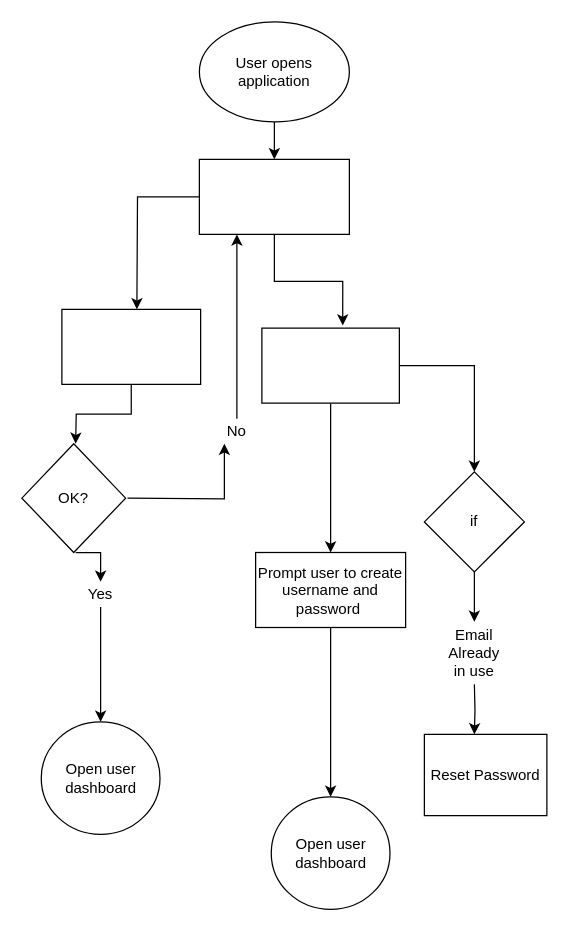
The diagram is 569 pixels wide and 931 high, and some of its shapes have lost their labels. The centre of each missing label's shape, as x and y in pixels:
"Email sign up" belongs at point 330,365.
"Facebook/Twitter verification" belongs at point 131,346.
"Prompt facebook/twitter/email sign up" belongs at point 273,196.
